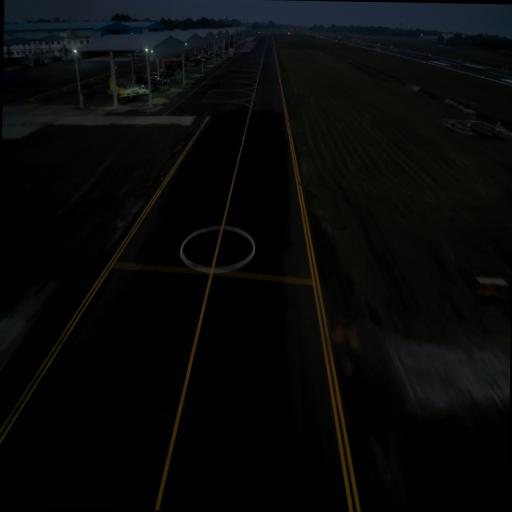on: (116, 216, 122, 226), (327, 224, 330, 232)
